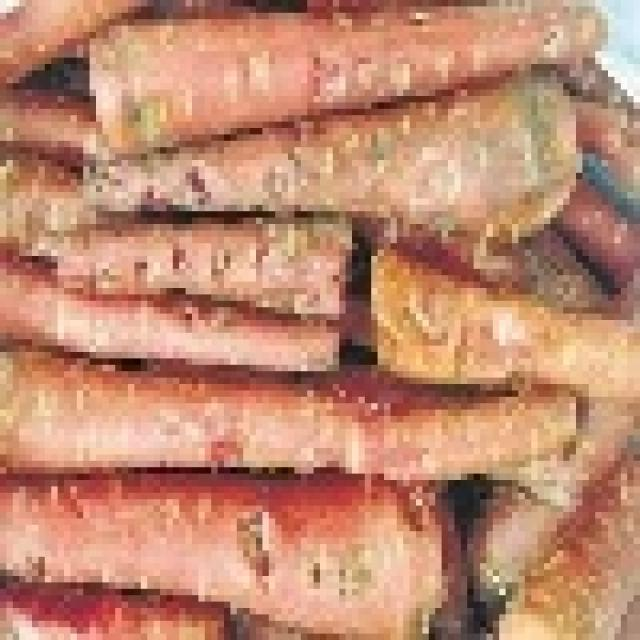Stale_Carrot: (91, 0, 609, 151), (1, 482, 439, 640), (386, 246, 640, 397), (49, 213, 351, 322)
